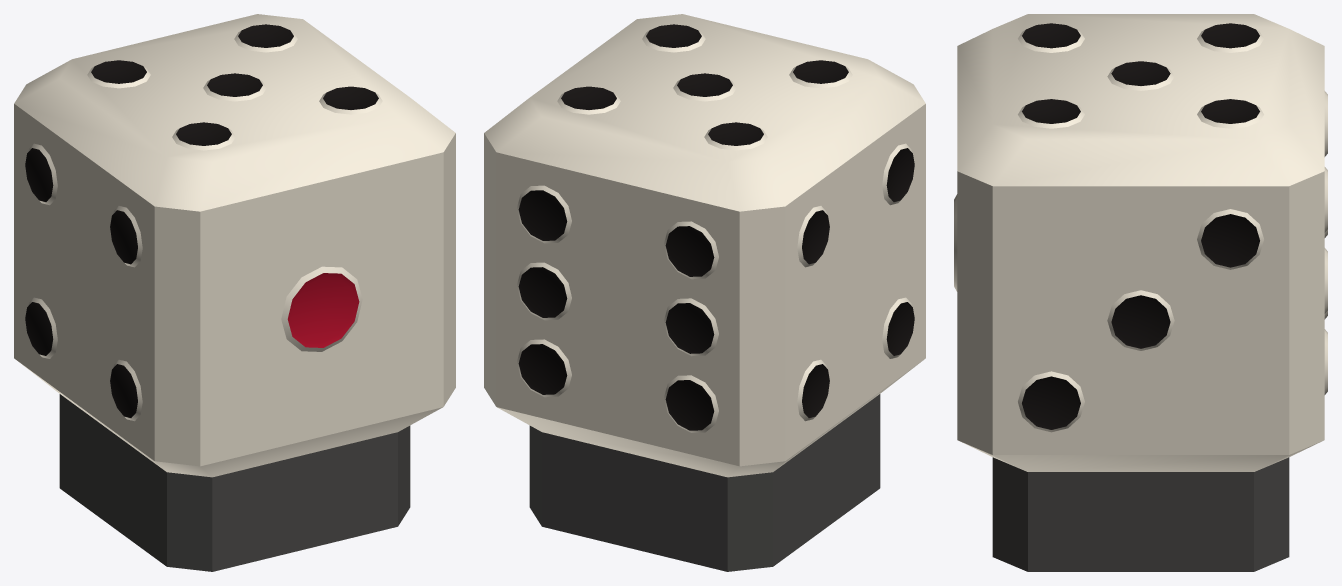
The model's file is prop_kniffel_die.glb.
3 views of the same model, side by side, from view 1: azimuth 30°, elevation 25°; view 2: azimuth 150°, elevation 25°; view 3: azimuth 270°, elevation 25° (orthographic). The views are drawn at different scales.
Parts seen in each view (by area): view 1: body; view 2: body; view 3: body.
Boxes of the visible parts, <box> form: body: <box>14,14,455,571</box>; body: <box>484,14,925,571</box>; body: <box>954,14,1327,571</box>.
Size of the model in its own units: 5.09 by 6.54 by 5.09.
